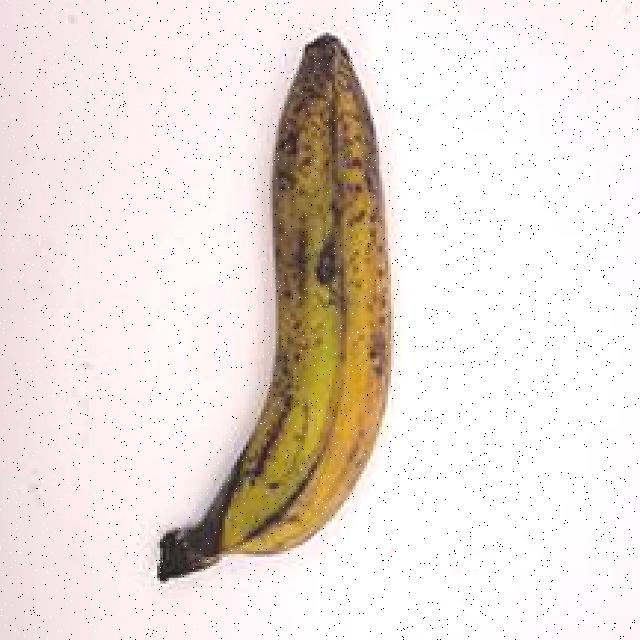Overripe: (127, 17, 445, 590)
